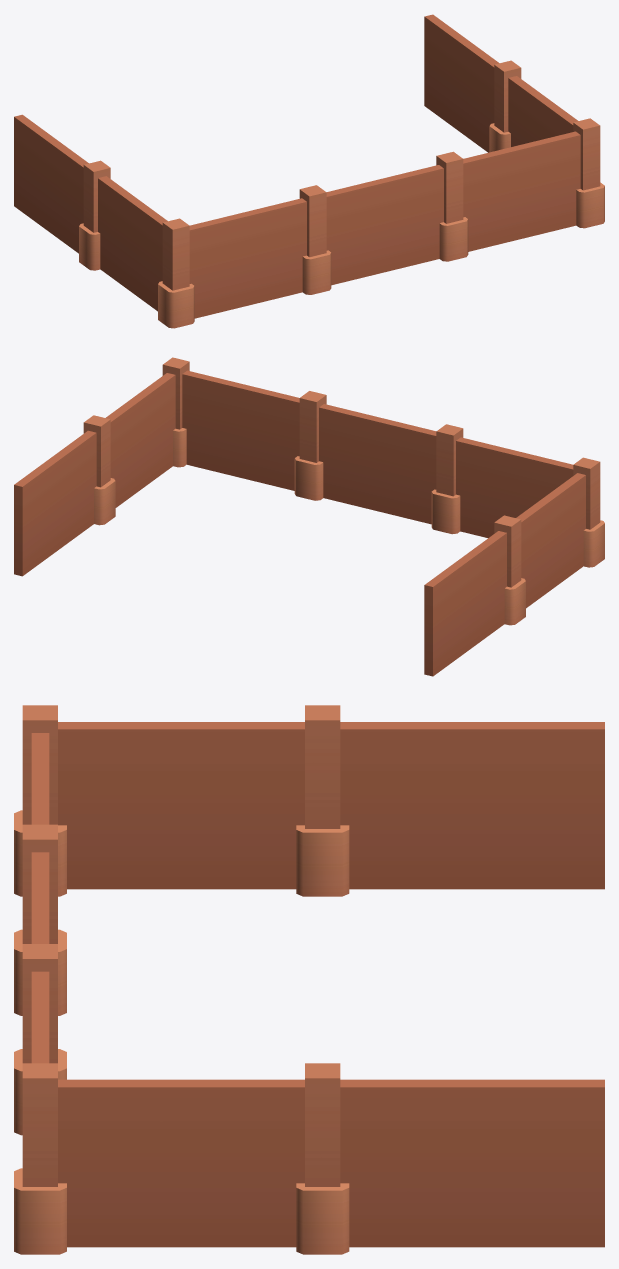
File: sub-fence-2x3.glb
3 views of the same model, one above another, from view 1: azimuth 30°, elevation 25°; view 2: azimuth 150°, elevation 25°; view 3: azimuth 270°, elevation 25° (orthographic). The views are drawn at different scales.
Visible parts, largest first — view 1: fence-2x3; view 2: fence-2x3; view 3: fence-2x3.
Boxes of the visible parts, x1,y1,x2,y2 form: fence-2x3: (14,14,604,328); fence-2x3: (14,357,604,676); fence-2x3: (14,705,604,1254).
Bounding box in the file's own units: 12.75 × 2.7 × 8.37.
Materials: 1 (1 with a texture image).
